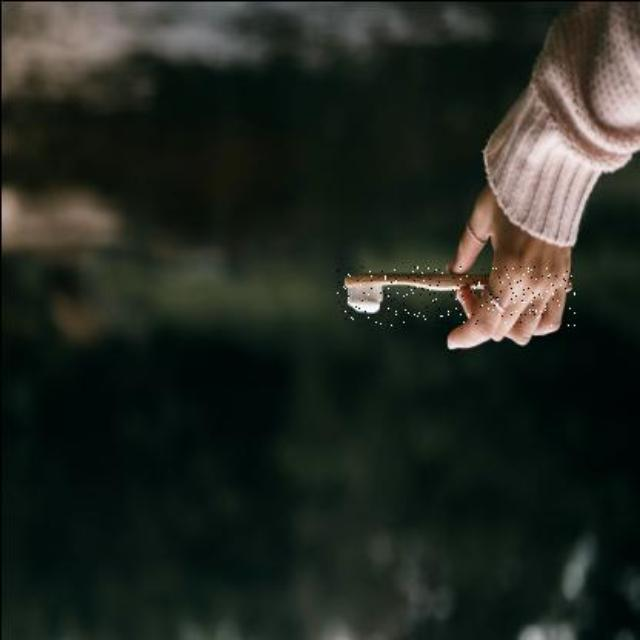toothbrush: (336, 265, 574, 325)
